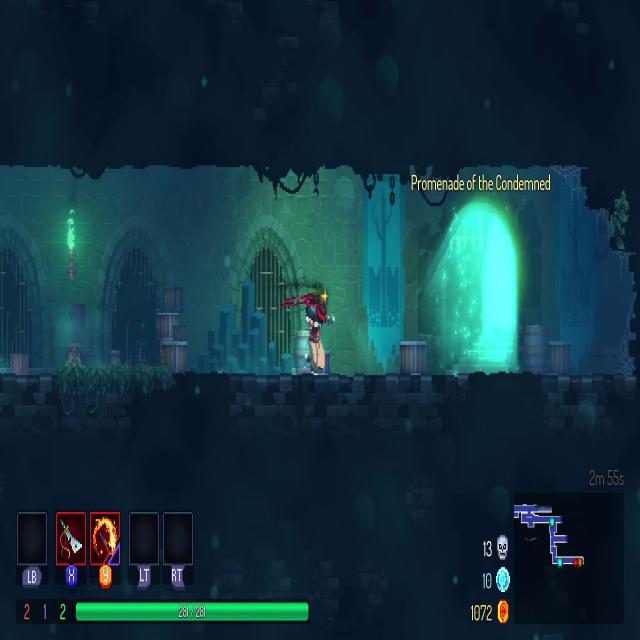agents: (303, 290, 331, 377)
door_nextLevel: (398, 168, 559, 380)
